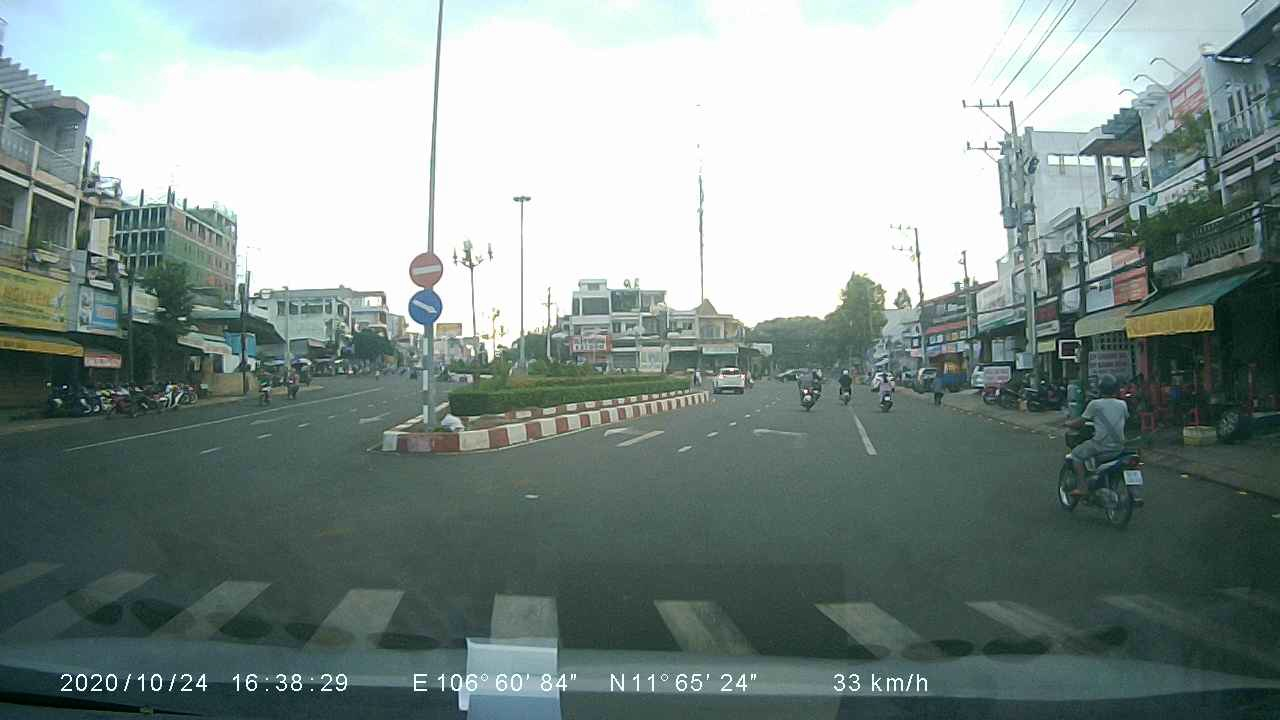Cam di nguoc chieu: (406, 248, 445, 286)
Huong di phai re phai: (406, 288, 449, 328)
